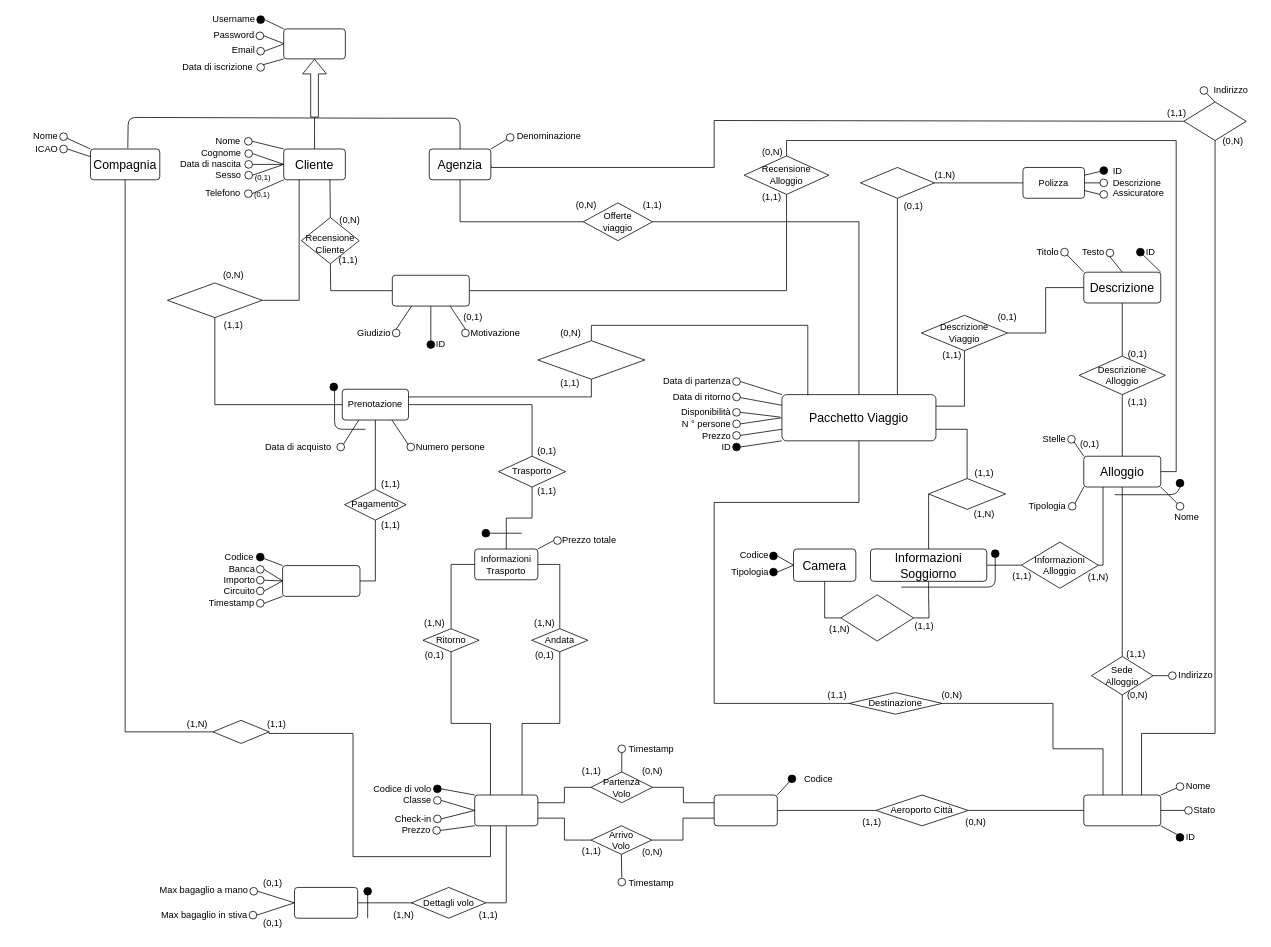
The diagram is 1271 pixels wide and 947 high, and some of its shapes have lost their labels. The shapes that lost their labels are listed below. From the top down, each one's centre as x and y in pixels, then its label:
At point (314, 43): "Utente".
At point (1214, 121): "Sede Agenzia".
At point (897, 182): "Assicurazione".
At point (214, 300): "Prenotazione Cliente".
At point (430, 290): "Recensione".
At point (591, 359): "Prenotazione Pacchetto".
At point (967, 493): "Prenottamento".
At point (321, 580): "Transazione".
At point (877, 617): "Informazioni camere".
At point (240, 731): "Gestisce".
At point (506, 810): "Volo".
At point (745, 810): "Aeroporto".
At point (1122, 810): "Città".
At point (326, 902): "Informazioni Bagaglio".
